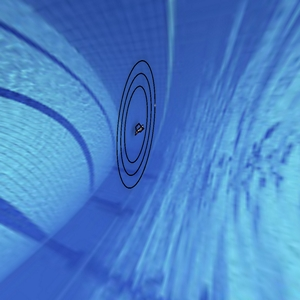circle: (98, 49, 176, 197)
submarine: (132, 117, 146, 143)
